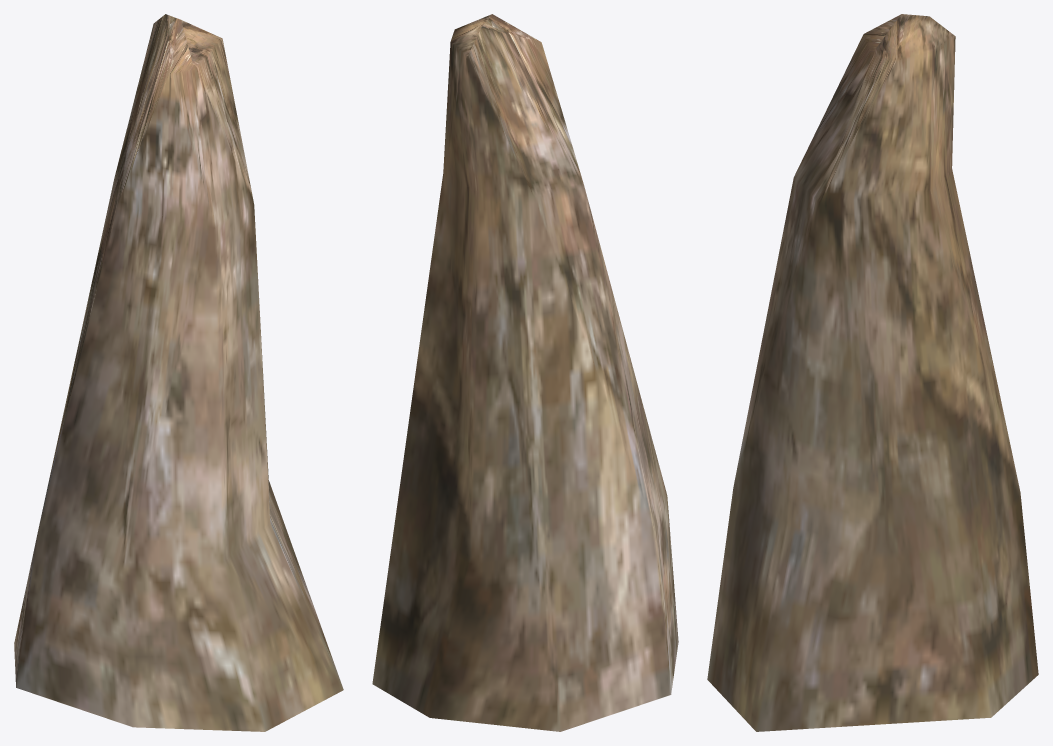
Rendered from thm_tato_cave_stalagmite_sml_l1.fbx.
3 renders of one model, left to right at view 1: azimuth 30°, elevation 25°; view 2: azimuth 150°, elevation 25°; view 3: azimuth 270°, elevation 25°, orthographic. The views are drawn at different scales.
Parts seen in each view (by area): view 1: mesh_node; view 2: mesh_node; view 3: mesh_node.
Part boxes in pixels (bbox=[...]): mesh_node: bbox=[14, 14, 343, 731]; mesh_node: bbox=[372, 14, 678, 731]; mesh_node: bbox=[707, 14, 1038, 731].
Size of the model in its own units: 1.03 by 2.4 by 1.08.
